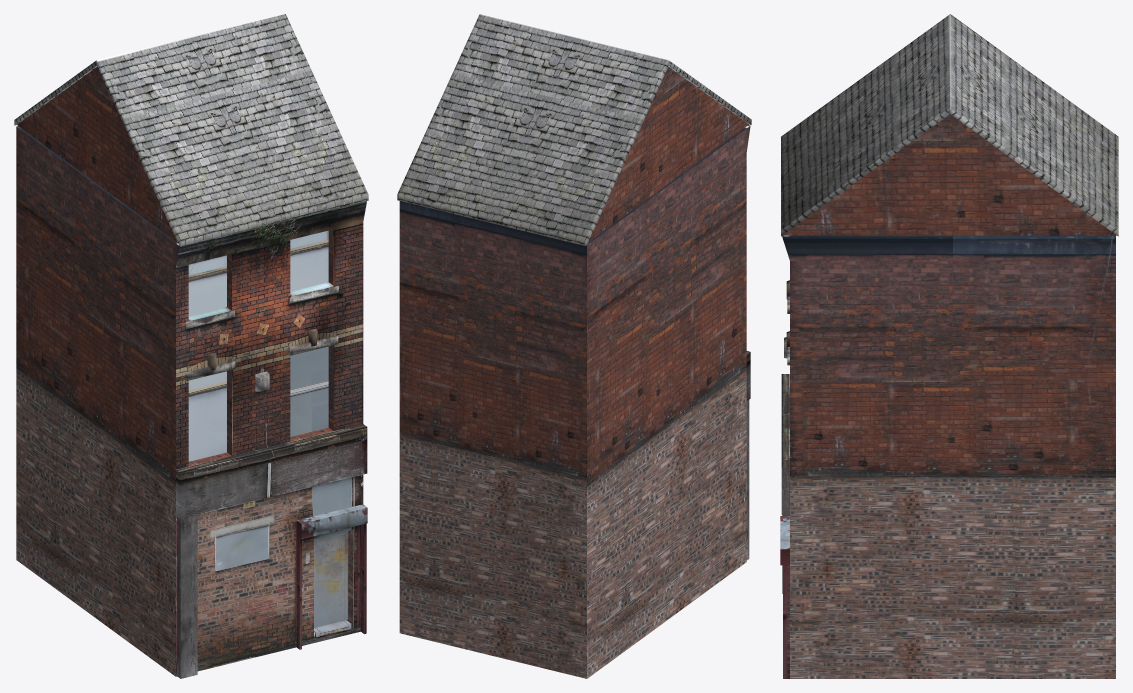
Rendered from building25.obj.
The picture shows the model from 3 angles, left to right: view 1: azimuth 30°, elevation 25°; view 2: azimuth 150°, elevation 25°; view 3: azimuth 270°, elevation 25°; orthographic projection. The views are drawn at different scales.
Parts seen in each view (by area): view 1: building24; view 2: building24; view 3: building24.
Boxes of the visible parts, x1,y1,x2,y2 form: building24: [14, 14, 368, 678]; building24: [397, 14, 751, 678]; building24: [780, 14, 1118, 678].
Bounding box in the file's own units: 163 × 460 × 247.
1 material, 1 textured.
